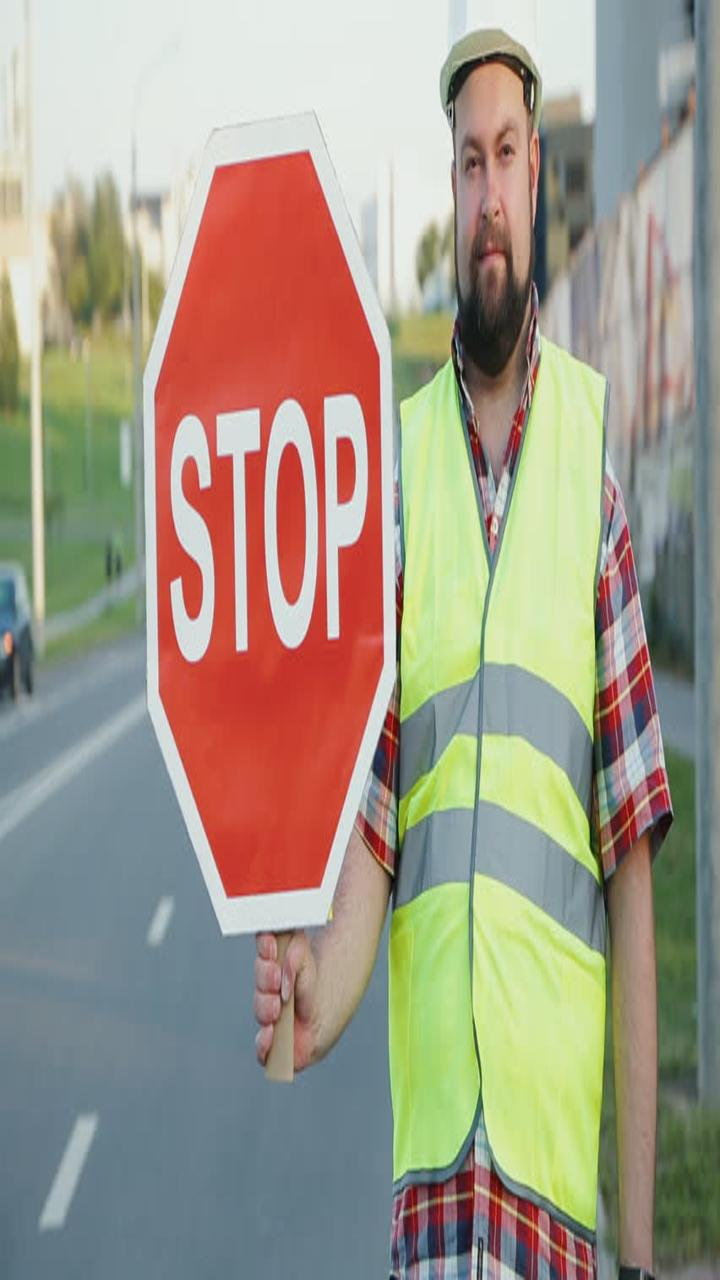Traffic sign: (108, 95, 424, 1084)
pedestrian: (383, 19, 666, 1280)
